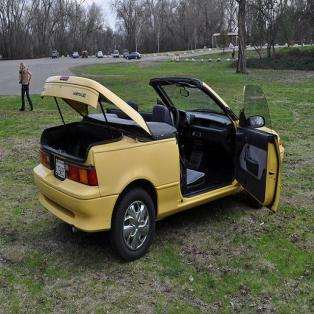Auto: (32, 74, 286, 263)
